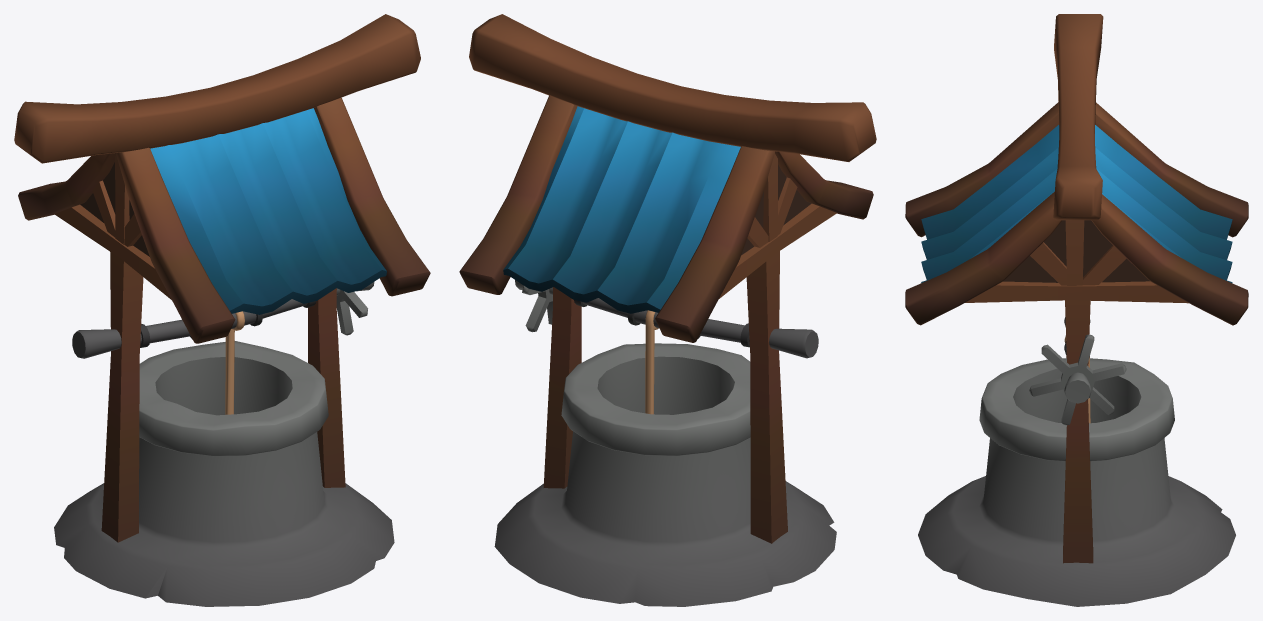
Rendered from Well_2.fbx.
3 views of the same model, side by side, from view 1: azimuth 30°, elevation 25°; view 2: azimuth 150°, elevation 25°; view 3: azimuth 270°, elevation 25° (orthographic). The views are drawn at different scales.
Parts seen in each view (by area): view 1: Well_2; view 2: Well_2; view 3: Well_2.
Boxes of the visible parts, box(x1,y1,x2,y2) form: Well_2: box(14, 14, 430, 606); Well_2: box(459, 14, 876, 606); Well_2: box(905, 14, 1248, 606).
Bounding box in the file's own units: 182 × 212 × 150.
